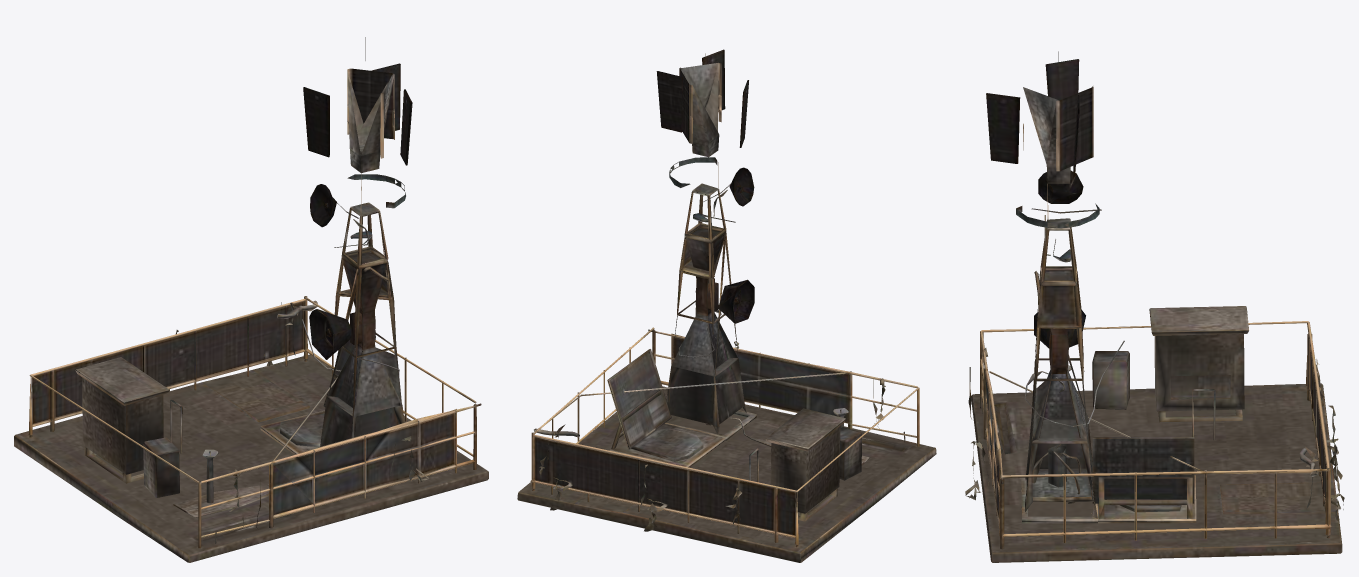
File: cell_tower.glb
3 views of the same model, side by side, from view 1: azimuth 30°, elevation 25°; view 2: azimuth 150°, elevation 25°; view 3: azimuth 270°, elevation 25° (orthographic). The views are drawn at different scales.
Visible parts, largest first — view 1: Body; view 2: Body; view 3: Body.
Part boxes in pixels (x1,y1,x2,y2): Body: (14, 37, 488, 562); Body: (517, 49, 936, 562); Body: (965, 51, 1344, 562).
Size of the model in its own units: 12.26 by 17.01 by 11.65.
1 material, 1 textured.
